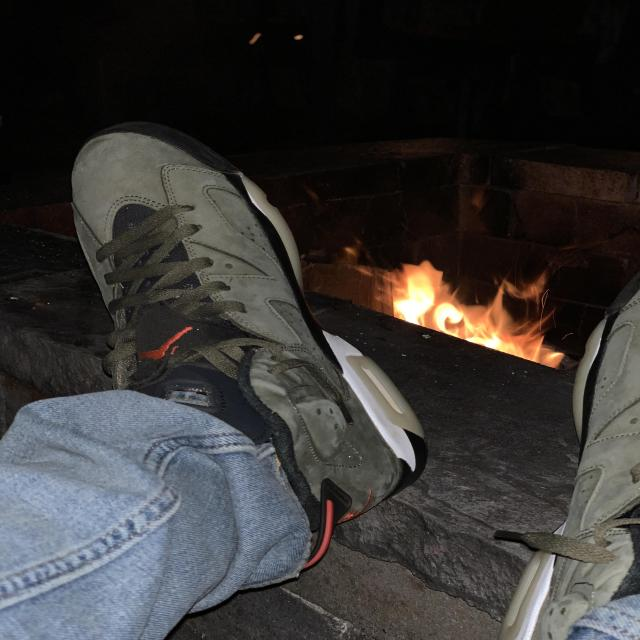shoe: (66, 120, 433, 568)
